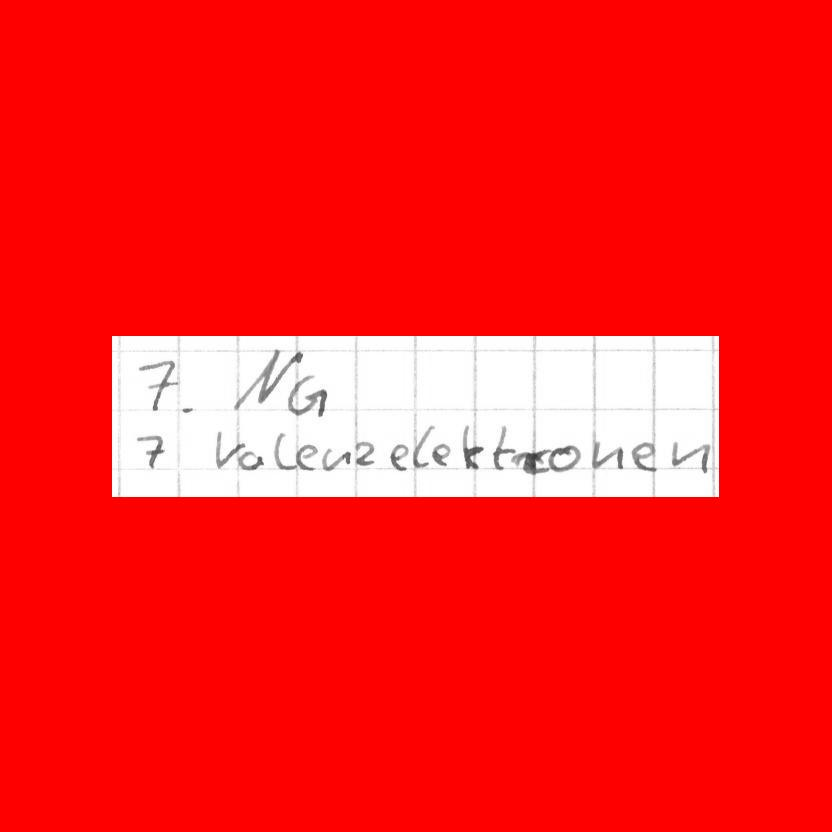Char: (230, 346, 294, 410), (133, 357, 179, 418), (287, 372, 326, 418), (211, 428, 245, 470), (672, 437, 710, 474), (135, 432, 167, 471), (460, 422, 485, 470), (590, 437, 621, 471), (512, 446, 549, 474), (491, 424, 514, 469), (412, 422, 434, 468), (549, 443, 580, 473), (630, 438, 657, 472), (271, 432, 293, 471), (320, 445, 347, 471), (388, 441, 408, 473), (295, 444, 319, 470), (430, 440, 454, 466), (237, 448, 264, 471), (355, 440, 377, 467), (179, 403, 197, 416)
